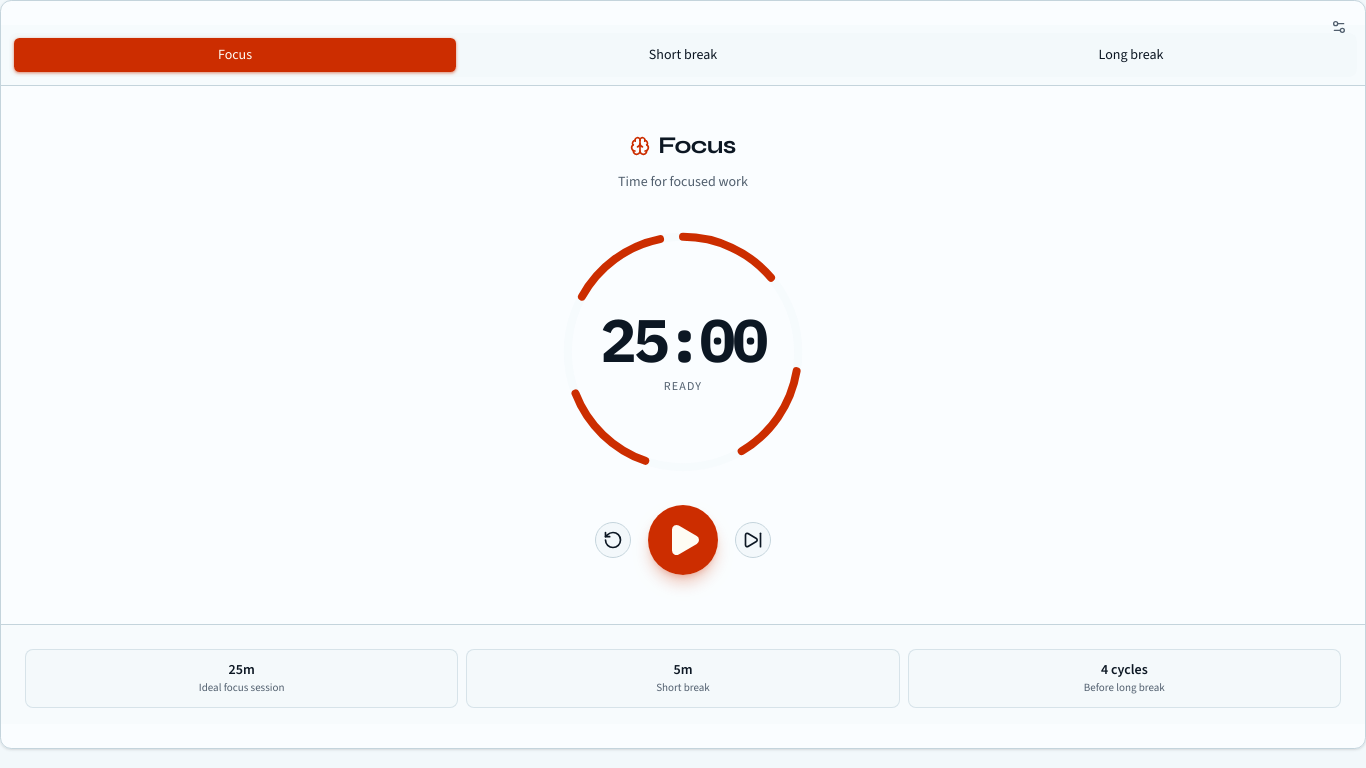
Test: Component: PomodoroTimer › Play/Pause control › timer counts down after starting
What coordinates should you click on to do the following:
click the button named "Start timer"
I would click on:
 (683, 540)
Its box is [647,504,719,576].
Wait 5000 ms
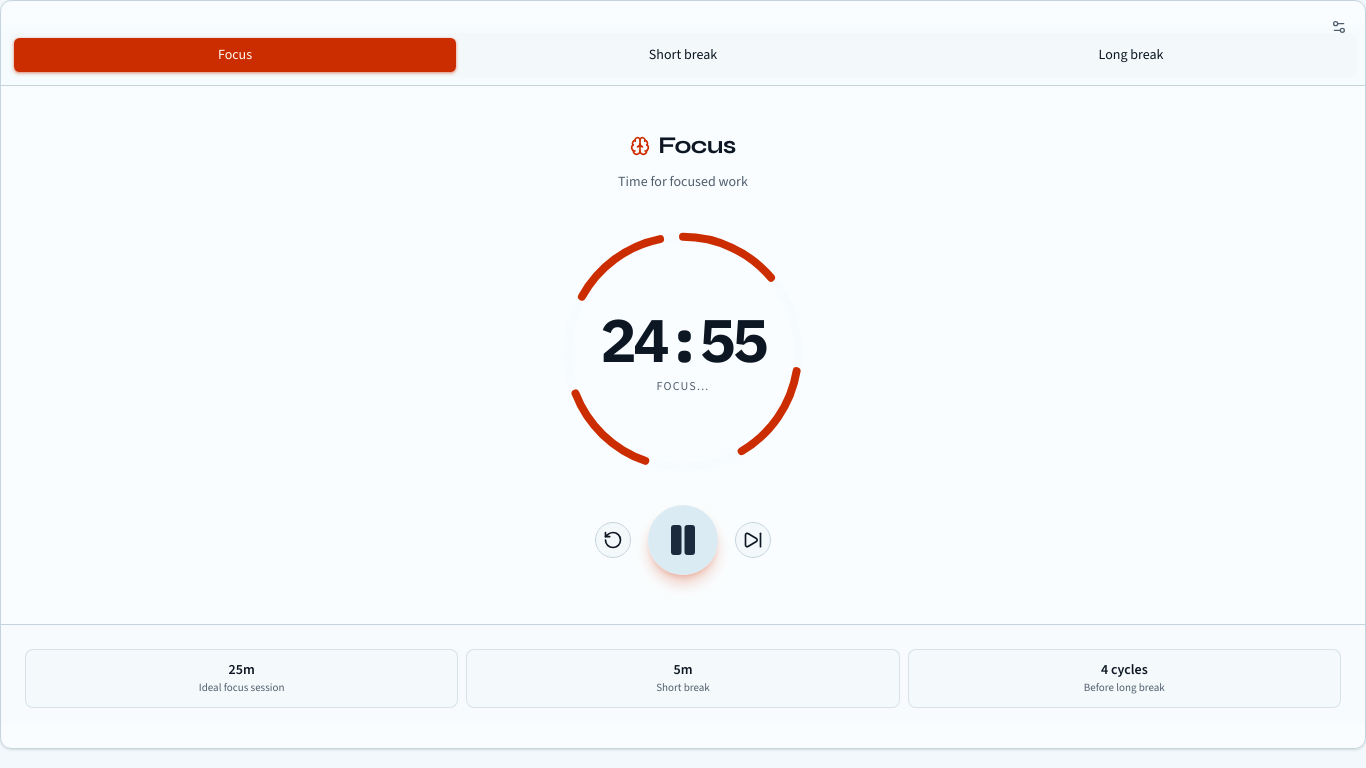
Expected: the text "24:55" is shown, [600,310,766,370]
